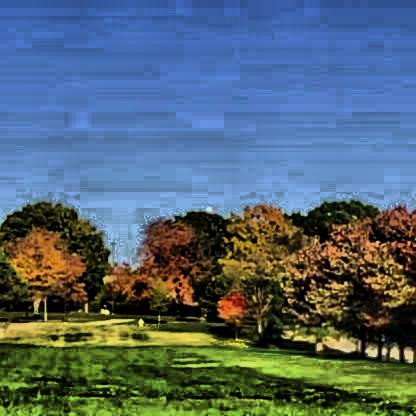golfball: (203, 204, 211, 209)
